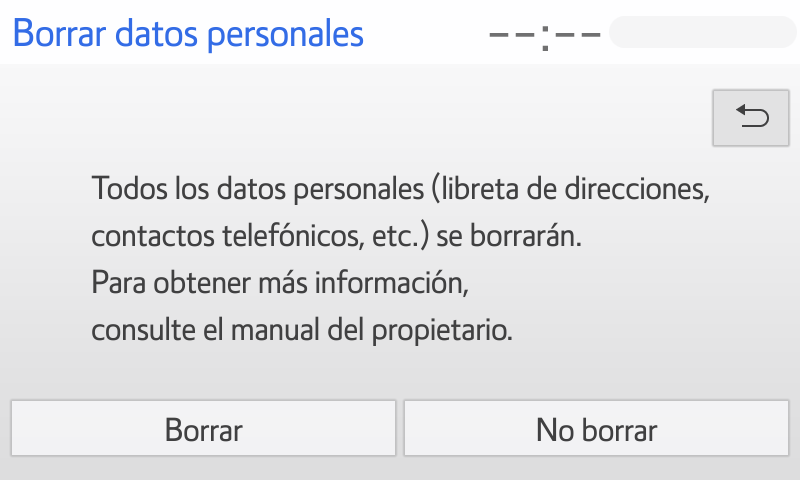touchPart: (401, 391, 792, 467), (5, 393, 397, 464), (705, 79, 789, 158)
untouchPart: (86, 170, 715, 353), (11, 9, 371, 54), (475, 9, 795, 50)
